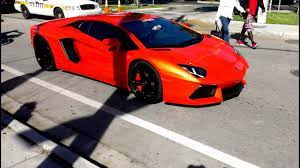Lamborghini: (31, 12, 244, 105)
